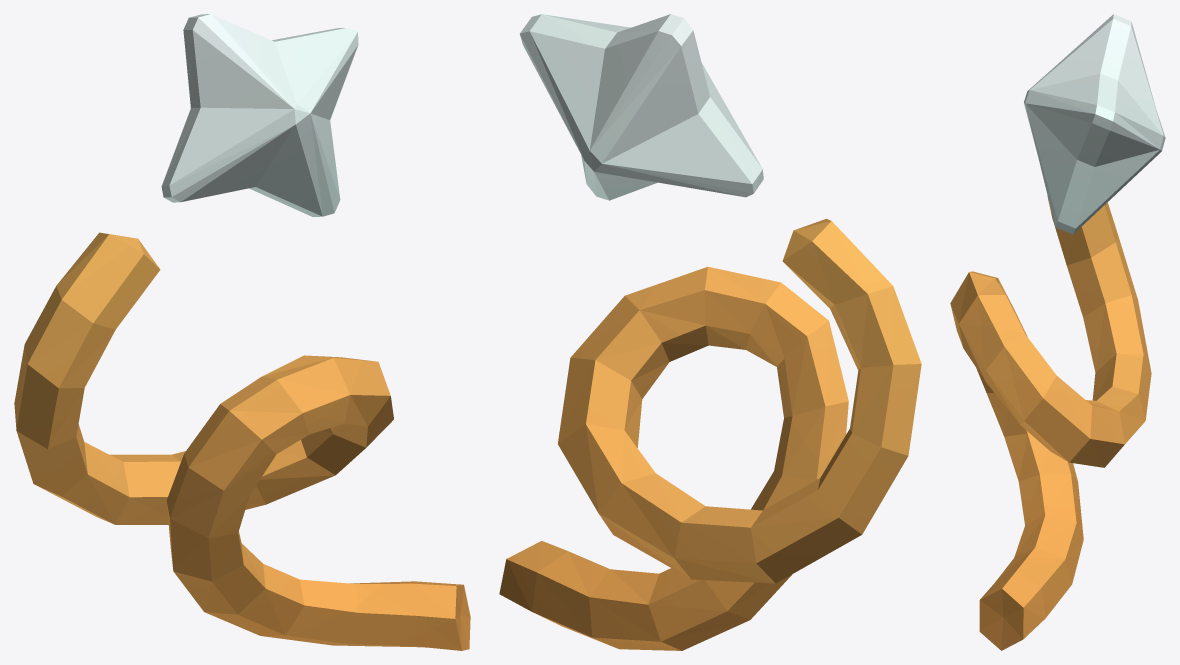
Rendered from CharSkyKid_Hat_PersonalityPCurve.glb.
3 renders of one model, left to right at view 1: azimuth 30°, elevation 25°; view 2: azimuth 150°, elevation 25°; view 3: azimuth 270°, elevation 25°, orthographic. The views are drawn at different scales.
Visible parts, largest first — view 1: CharSkyKid_Hat_PersonalityPCurve; view 2: CharSkyKid_Hat_PersonalityPCurve; view 3: CharSkyKid_Hat_PersonalityPCurve.
Boxes of the visible parts, x1=… form: CharSkyKid_Hat_PersonalityPCurve: x1=14, y1=14, x2=470, y2=650; CharSkyKid_Hat_PersonalityPCurve: x1=499, y1=14, x2=921, y2=650; CharSkyKid_Hat_PersonalityPCurve: x1=950, y1=14, x2=1165, y2=650.
Size of the model in its own units: 1.29 by 1.89 by 0.671.
Materials: 1 (1 with a texture image).
